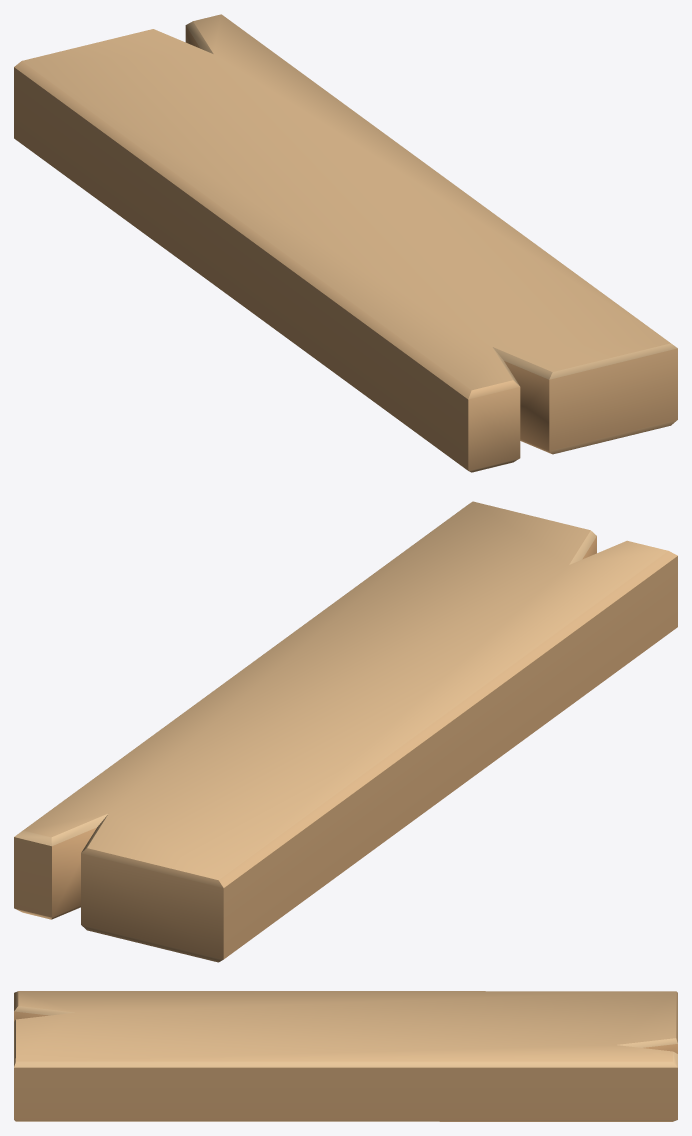
Rendered from wood_plank_c.glb.
3 views of the same model, one above another, from view 1: azimuth 30°, elevation 25°; view 2: azimuth 150°, elevation 25°; view 3: azimuth 270°, elevation 25° (orthographic). The views are drawn at different scales.
Parts seen in each view (by area): view 1: Wood_Plank_C; view 2: Wood_Plank_C; view 3: Wood_Plank_C.
Boxes of the visible parts, x1,y1,x2,y2 form: Wood_Plank_C: (14, 14, 677, 472); Wood_Plank_C: (14, 501, 677, 962); Wood_Plank_C: (14, 991, 677, 1121).
Size of the model in its own units: 0.24 by 0.09 by 0.9.
Materials: 1 (1 with a texture image).
